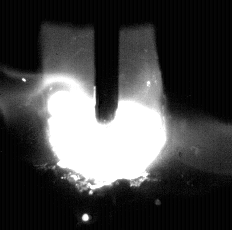arame: (96, 0, 120, 125)
poca: (47, 0, 167, 230)
